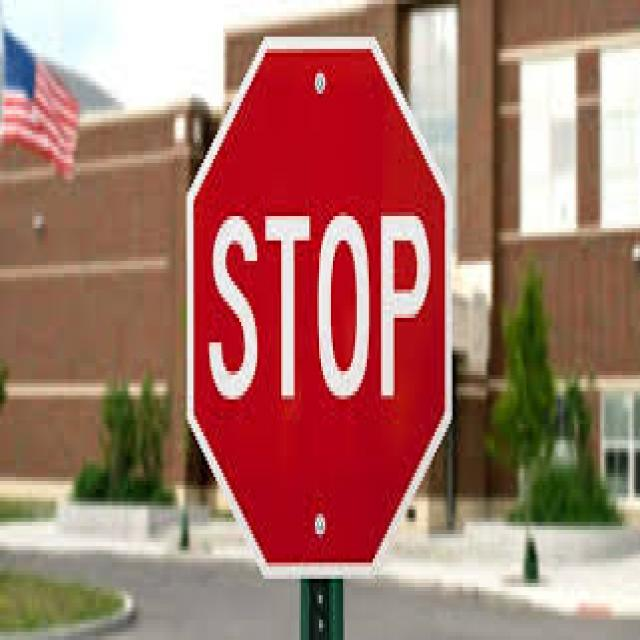stop-sign: (188, 102, 448, 518)
